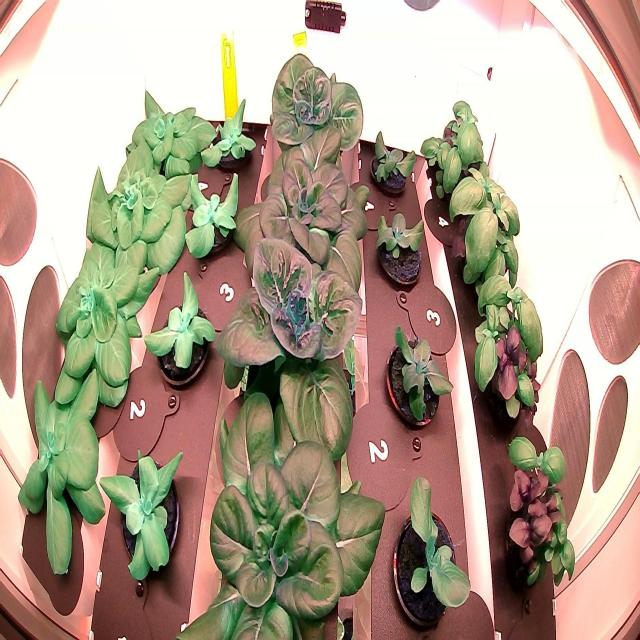young: (169, 371, 391, 640), (213, 215, 374, 468), (229, 121, 376, 315), (46, 228, 168, 416), (13, 365, 110, 580), (253, 31, 369, 184), (84, 136, 199, 288), (380, 467, 479, 638), (98, 435, 187, 594), (376, 315, 457, 447), (119, 82, 218, 185), (142, 268, 222, 389), (364, 194, 429, 300), (179, 164, 242, 267), (358, 114, 423, 204), (200, 96, 258, 172)
